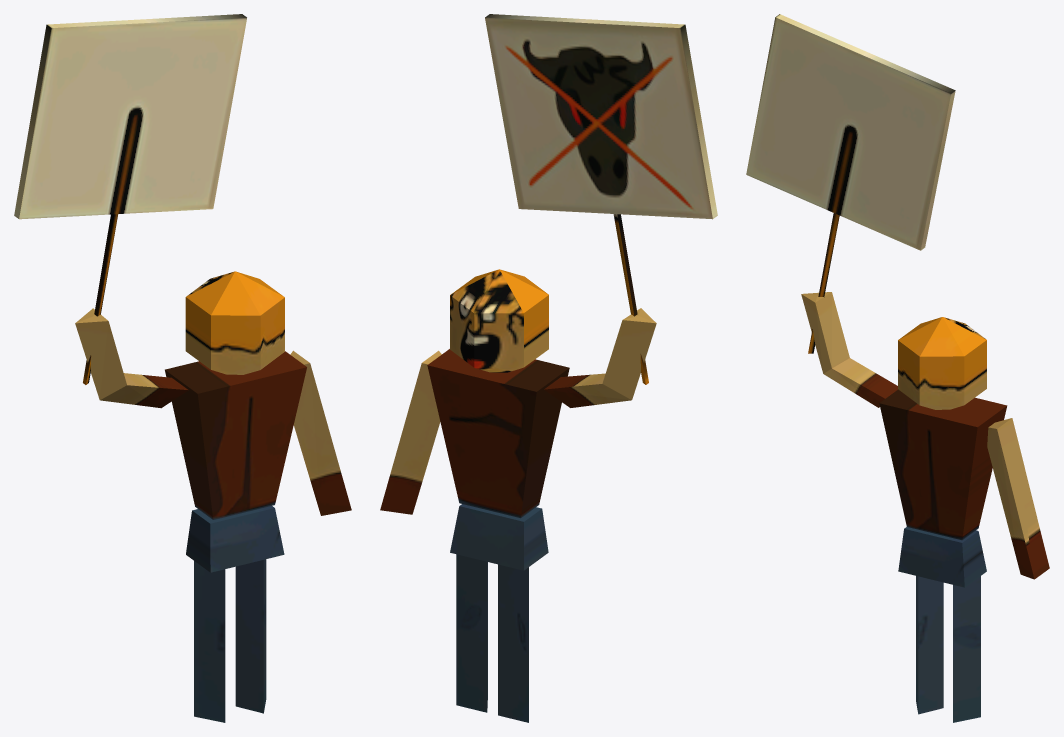
The model's file is Crowd2.glb.
3 renders of one model, left to right at view 1: azimuth 30°, elevation 25°; view 2: azimuth 150°, elevation 25°; view 3: azimuth 330°, elevation 25°, orthographic. The views are drawn at different scales.
Parts seen in each view (by area): view 1: Crowd2; view 2: Crowd2; view 3: Crowd2.
Boxes of the visible parts, x1,y1,x2,y2 form: Crowd2: [14, 14, 351, 722]; Crowd2: [380, 14, 717, 722]; Crowd2: [746, 14, 1049, 722].
Size of the model in its own units: 108 by 231 by 28.93.
Materials: 1 (1 with a texture image).
